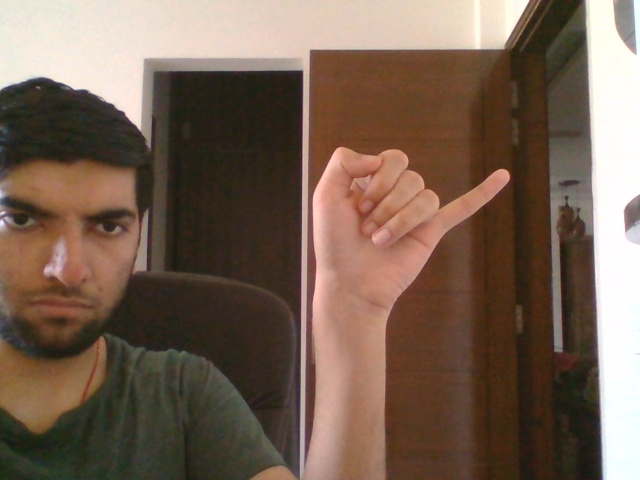LetterJ: (311, 144, 510, 304)
